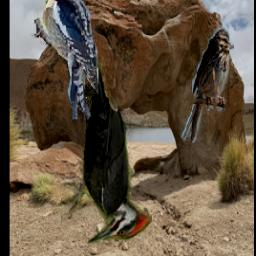Sparrow: (181, 26, 234, 144)
Woodpecker: (62, 50, 153, 245), (28, 0, 98, 120)
